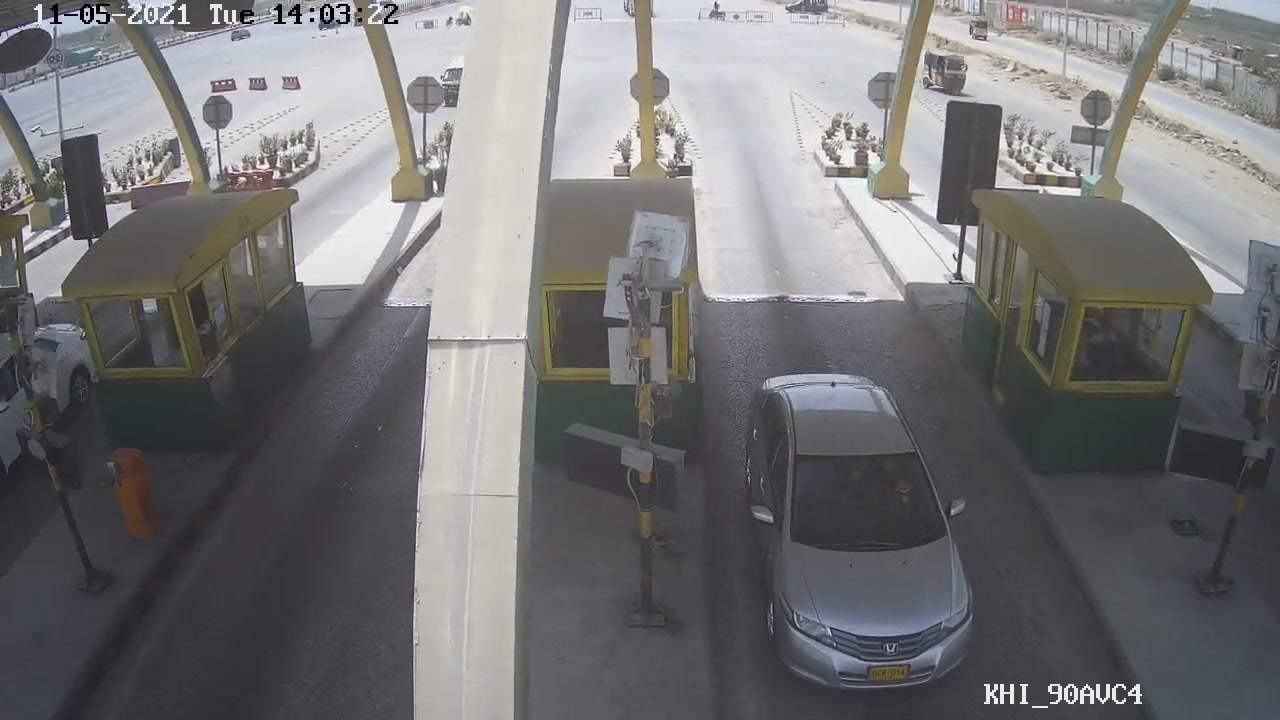F1: (726, 360, 992, 703)
